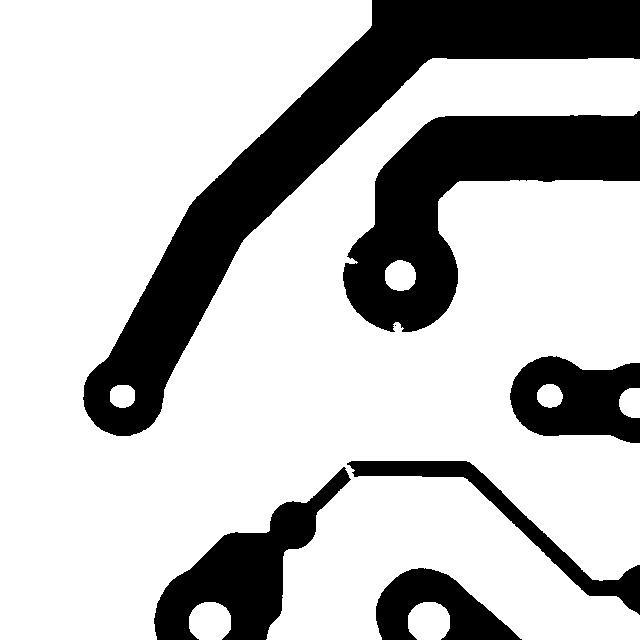mousebite: (332, 246, 367, 273), (383, 312, 413, 342)
open: (330, 454, 365, 489)
